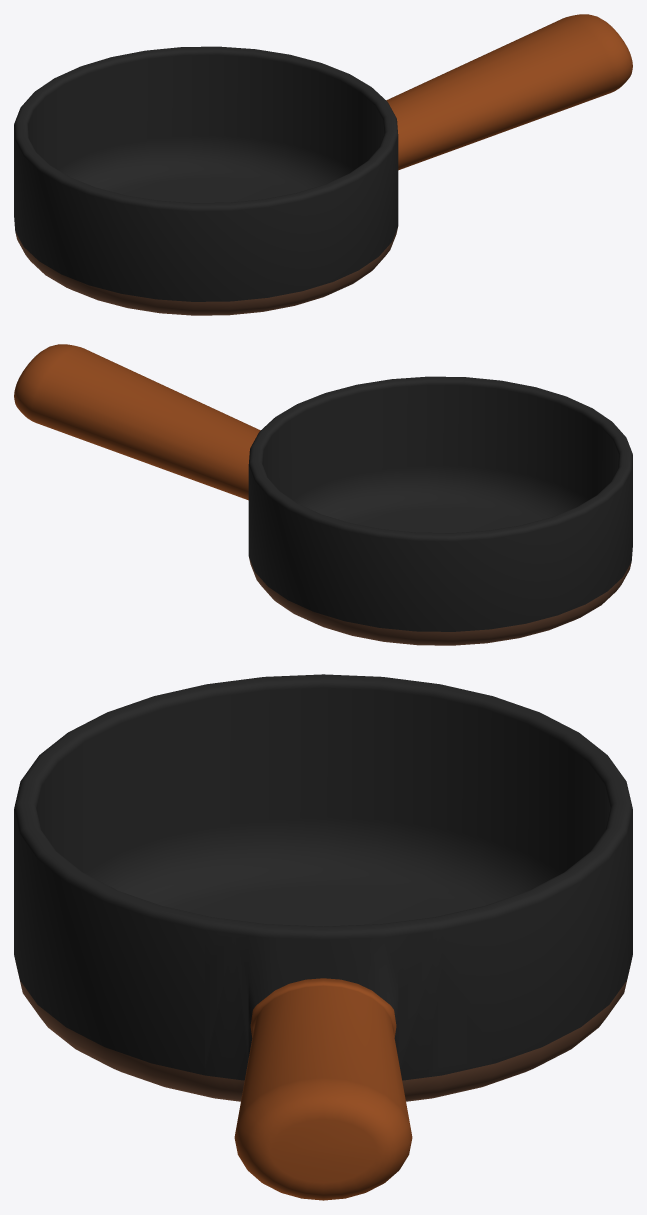
The model's file is pan.fbx.
The picture shows the model from 3 angles, top to bottom: view 1: azimuth 30°, elevation 25°; view 2: azimuth 150°, elevation 25°; view 3: azimuth 270°, elevation 25°; orthographic projection. The views are drawn at different scales.
Parts seen in each view (by area): view 1: Cylinder; view 2: Cylinder; view 3: Cylinder.
Boxes of the visible parts, bbox=[...] form: Cylinder: bbox=[14, 14, 632, 315]; Cylinder: bbox=[14, 344, 632, 645]; Cylinder: bbox=[14, 674, 632, 1200].
Size of the model in its own units: 347 by 73.6 by 200.
